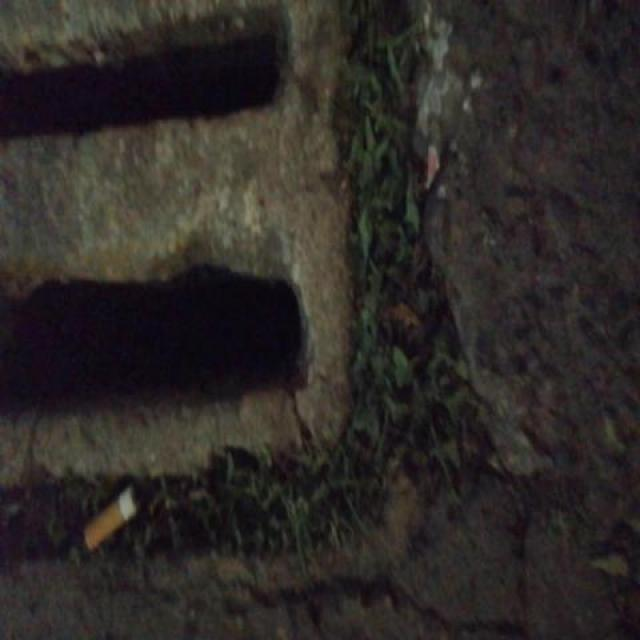non-organic waste: (78, 480, 146, 552)
